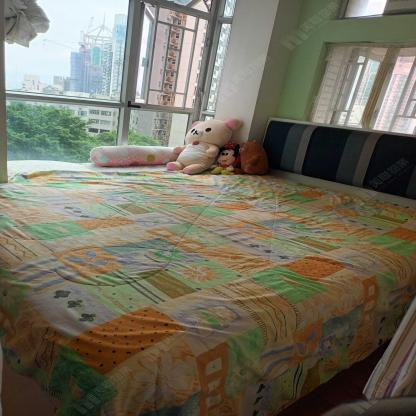Bed: (0, 173, 416, 416)
